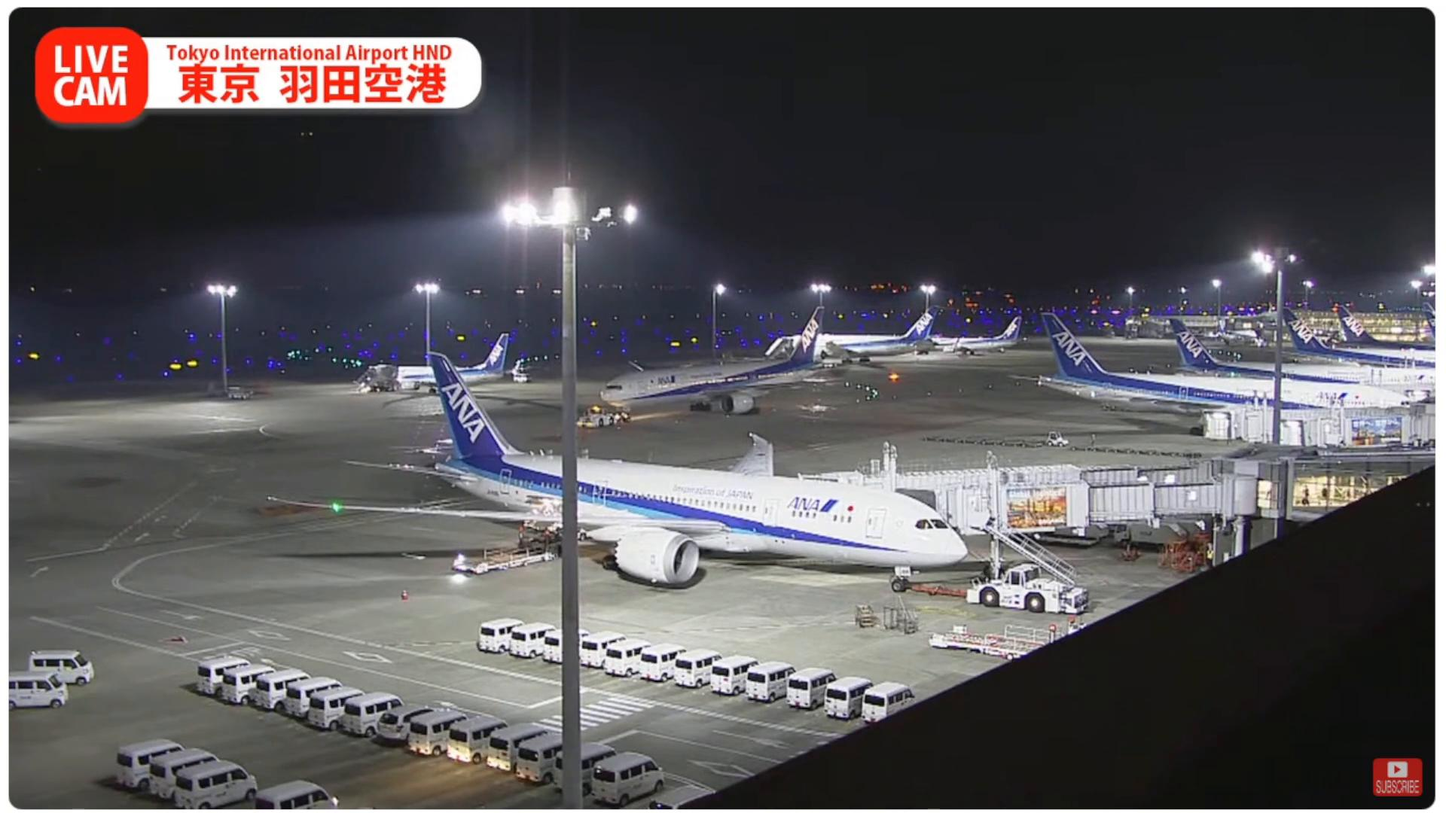APS: (965, 561, 1092, 612)
Aerobridge: (895, 475, 1256, 534), (792, 456, 1224, 487)
Airplane: (270, 351, 971, 589)
JCPL: (450, 526, 563, 575), (929, 623, 1053, 658)
Window: (1290, 455, 1437, 521)
